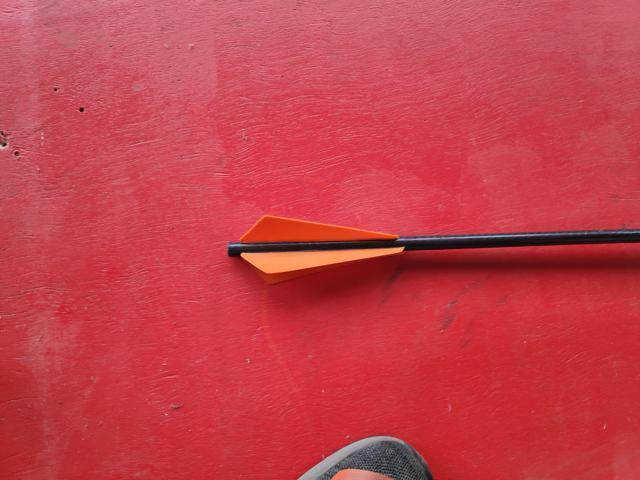Tail: (222, 214, 411, 285)
